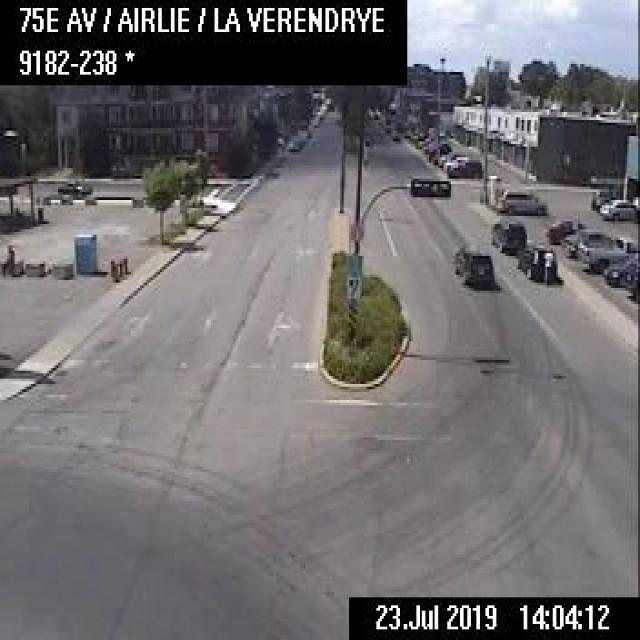construction: (116, 258, 123, 277), (112, 259, 118, 280), (108, 256, 113, 276), (121, 254, 126, 272)
pedestrian: (542, 244, 553, 284)
vehicle: (572, 234, 636, 271), (452, 241, 492, 288), (515, 240, 554, 282), (500, 186, 546, 214), (491, 217, 525, 250), (602, 252, 637, 284), (542, 216, 583, 240), (596, 196, 636, 220), (442, 153, 481, 176), (54, 178, 90, 198), (286, 135, 302, 149)
